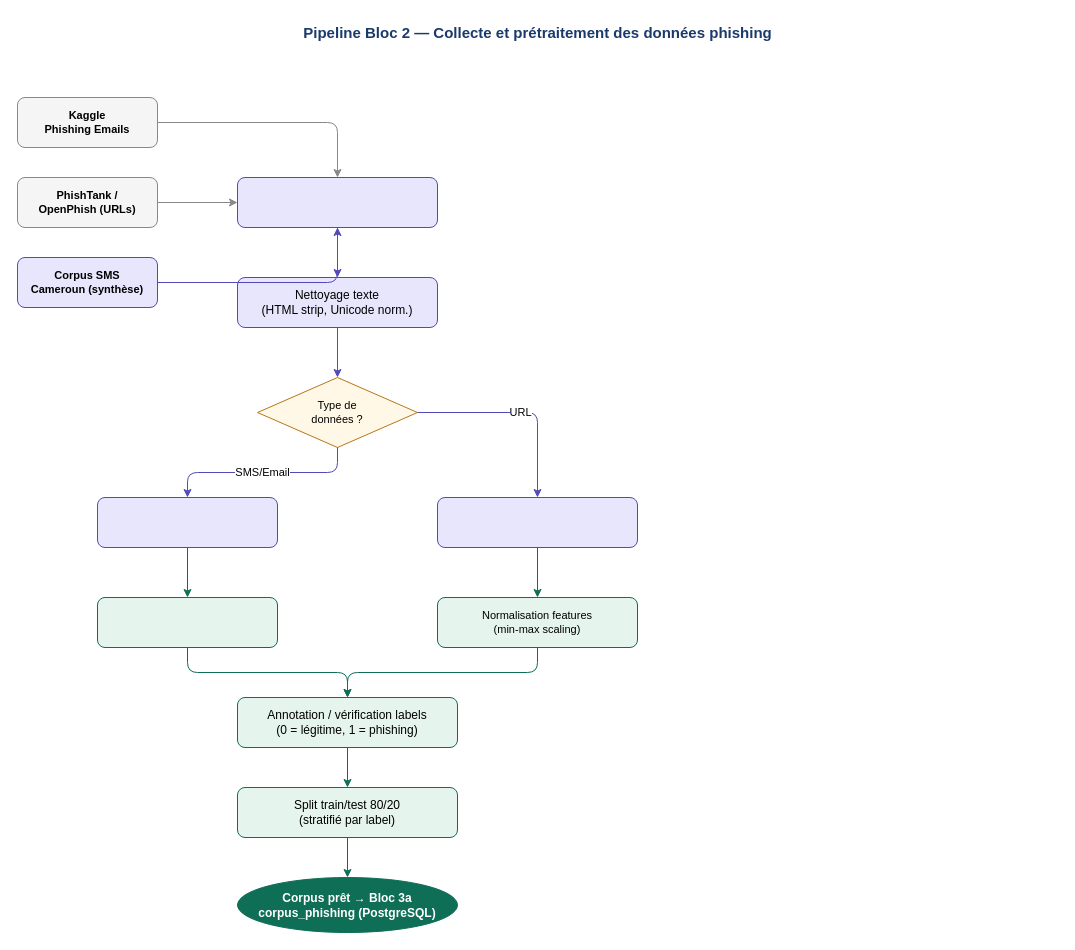
Image size: 1075x950. Some labels were removed from this diagram. Here are the shapes that lost their labels. From the top down, the box of each, then its label:
(236, 176, 438, 228): Collecte & chargement (pandas read_csv / API)
(96, 496, 278, 548): Tokenisation SMS + détection langue
(436, 496, 638, 548): Extraction features URL (longueur, TLD, sous-domaine)
(96, 596, 278, 648): Vectorisation TF-IDF + tokenizer BERT
